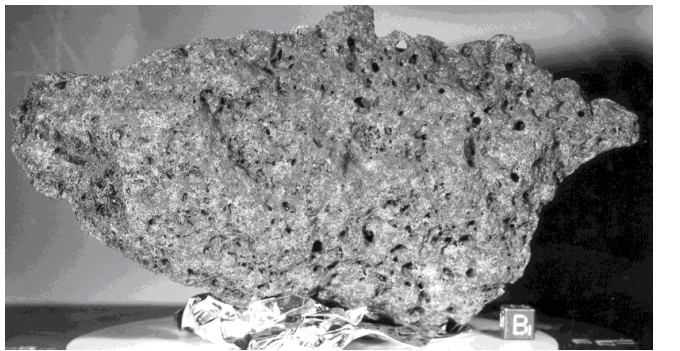Basalt: (29, 25, 622, 305)
